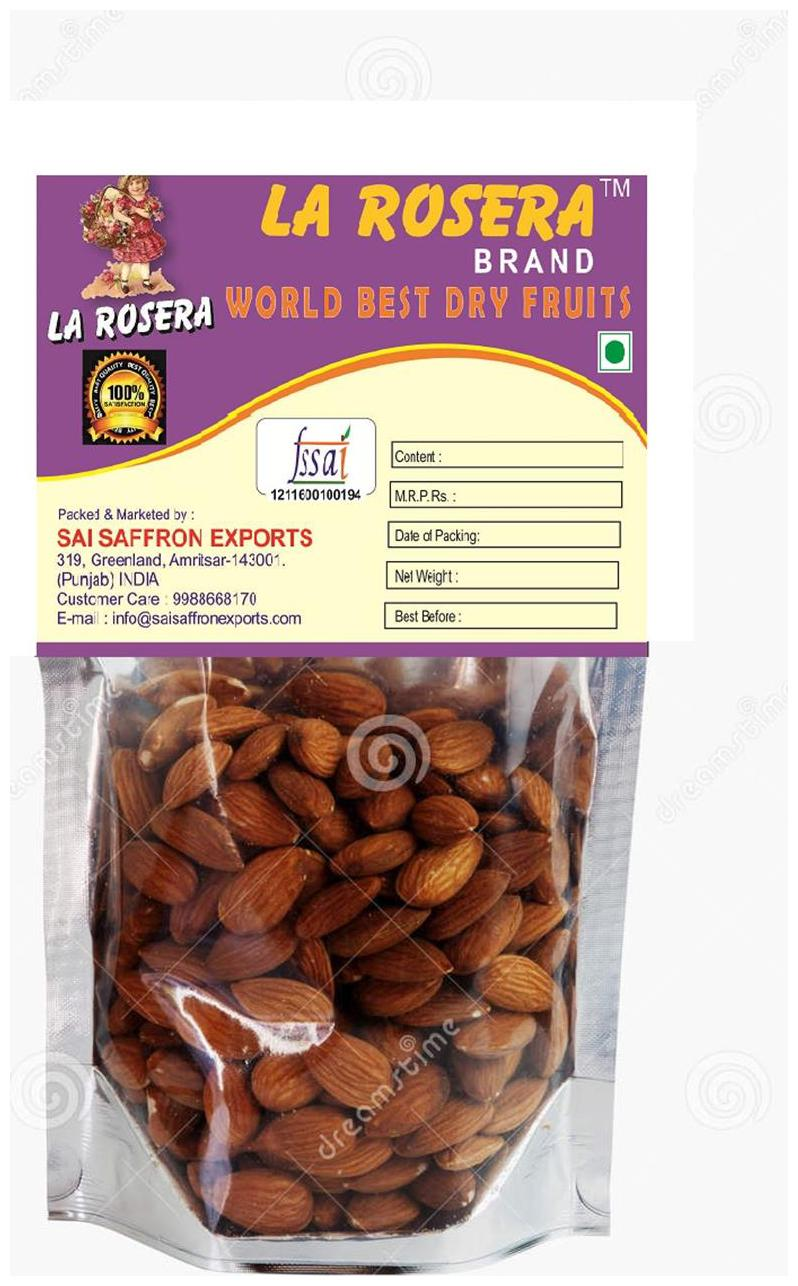fssai: (285, 425, 351, 486)
